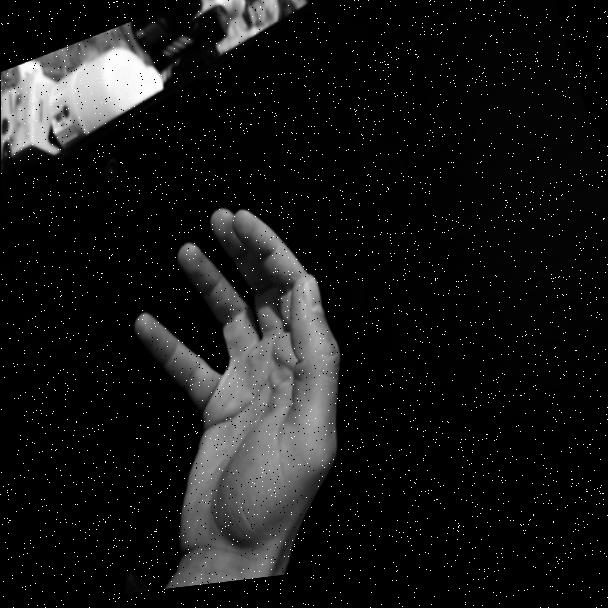five: (102, 171, 392, 589)
